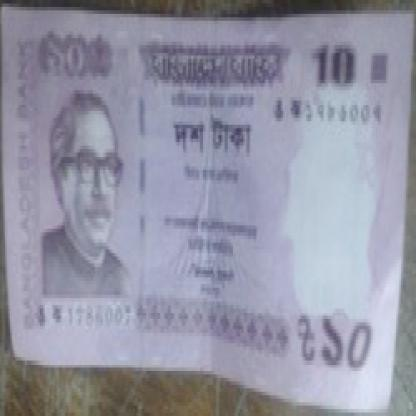Ten Taka: (318, 309, 378, 388), (310, 38, 370, 97), (38, 24, 88, 83)
